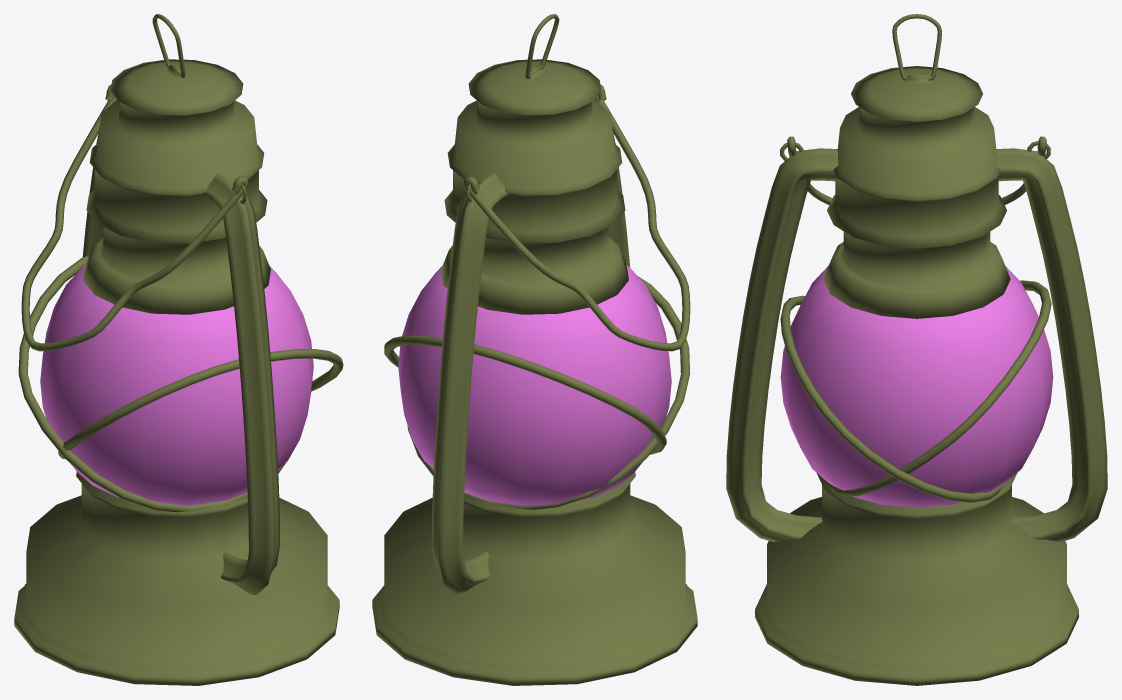
Rendered from mod_candil.fbx.
The picture shows the model from 3 angles, left to right: view 1: azimuth 30°, elevation 25°; view 2: azimuth 150°, elevation 25°; view 3: azimuth 270°, elevation 25°; orthographic projection.
Parts seen in each view (by area): view 1: Sphere.001; view 2: Sphere.001; view 3: Sphere.001.
Boxes of the visible parts, box(x1,y1,x2,y2) form: Sphere.001: box(14, 14, 343, 685); Sphere.001: box(372, 14, 697, 685); Sphere.001: box(726, 14, 1107, 685).
Bounding box in the file's own units: 14.16 × 28.31 × 16.39.
